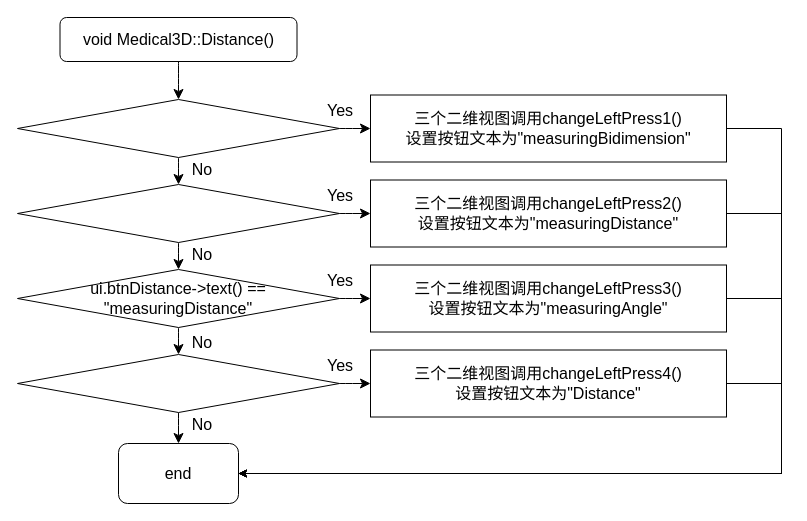
Image size: 807x521. Some labels were removed from this diagram. The shapes that lost their labels are listed below. From the top down, each one's box as (x1, y1, x2, y2) in pixels, then its label:
(16, 98, 340, 158): ui.btnDistance->text() == "Distance"
(16, 184, 340, 242): ui.btnDistance->text() == "measuringBidimension"
(16, 354, 340, 412): ui.btnDistance->text() == "measuringAngel"
